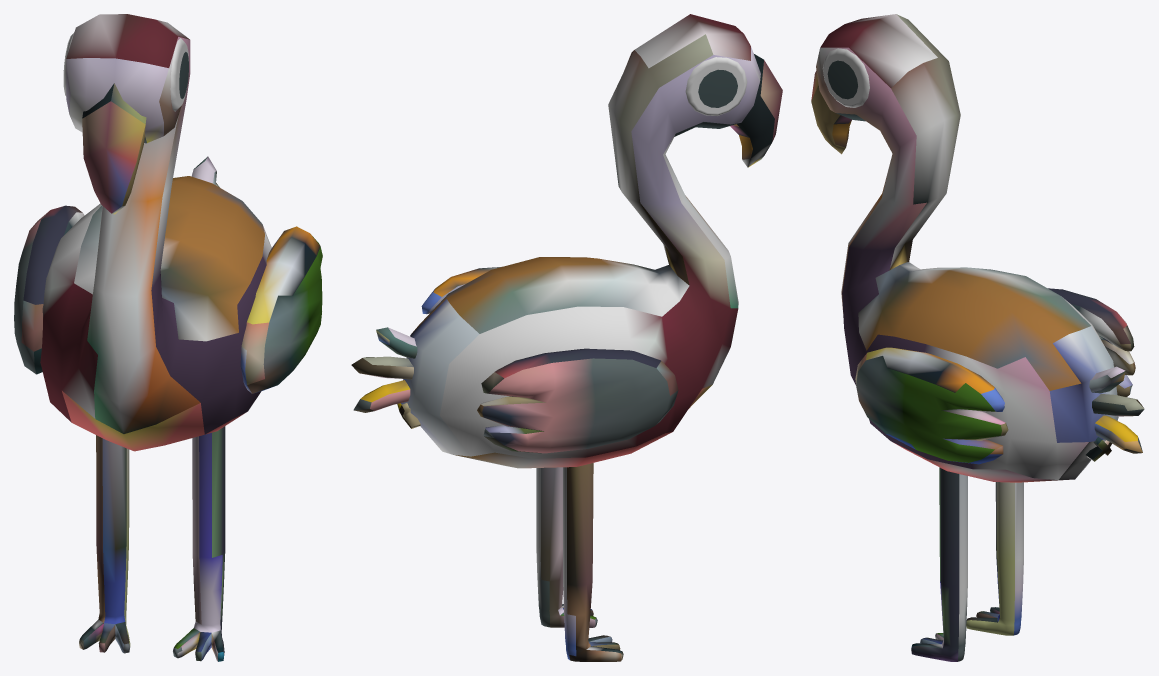
File: Flamingo.glb
3 renders of one model, left to right at view 1: azimuth 30°, elevation 25°; view 2: azimuth 150°, elevation 25°; view 3: azimuth 270°, elevation 25°, orthographic. The views are drawn at different scales.
Visible parts, largest first — view 1: 49; view 2: 49; view 3: 49.
Part boxes in pixels (bbox=[...]): 49: bbox=[14, 14, 322, 661]; 49: bbox=[351, 14, 782, 661]; 49: bbox=[811, 14, 1144, 661].
Bounding box in the file's own units: 0.6297 × 1.32 × 0.6788.
